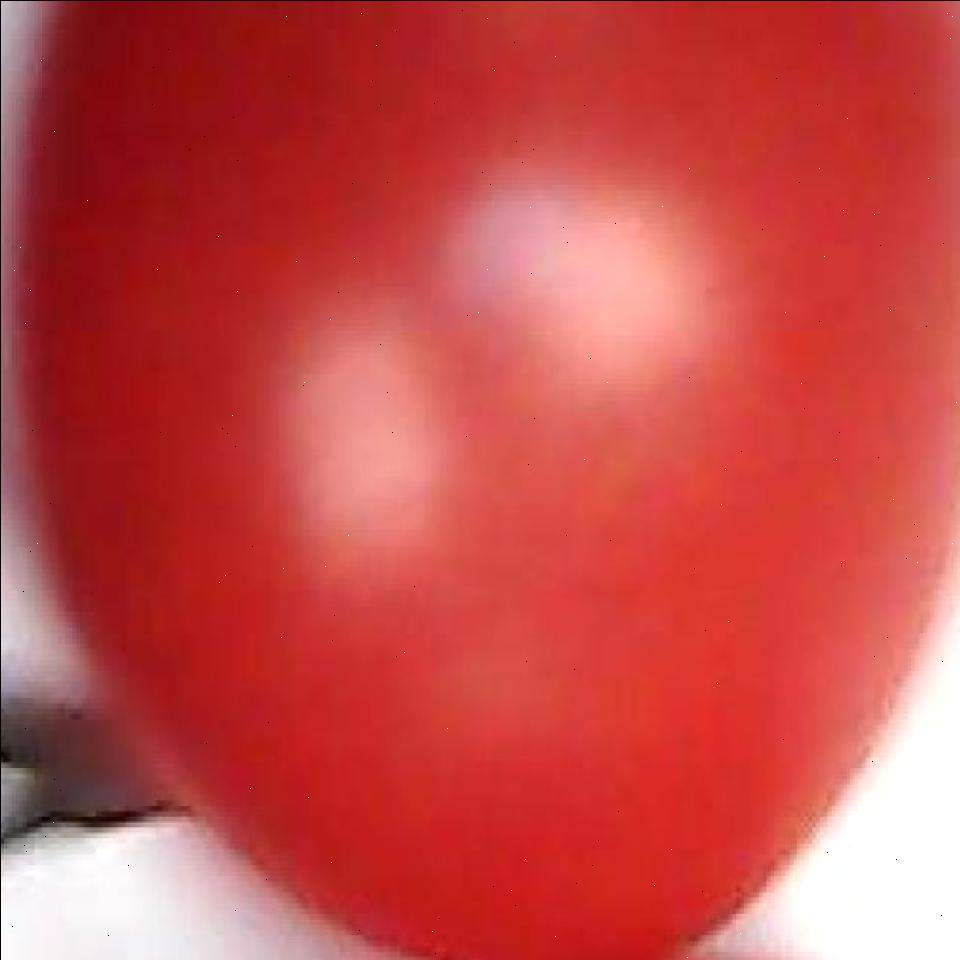Healthy: (39, 0, 959, 941)
